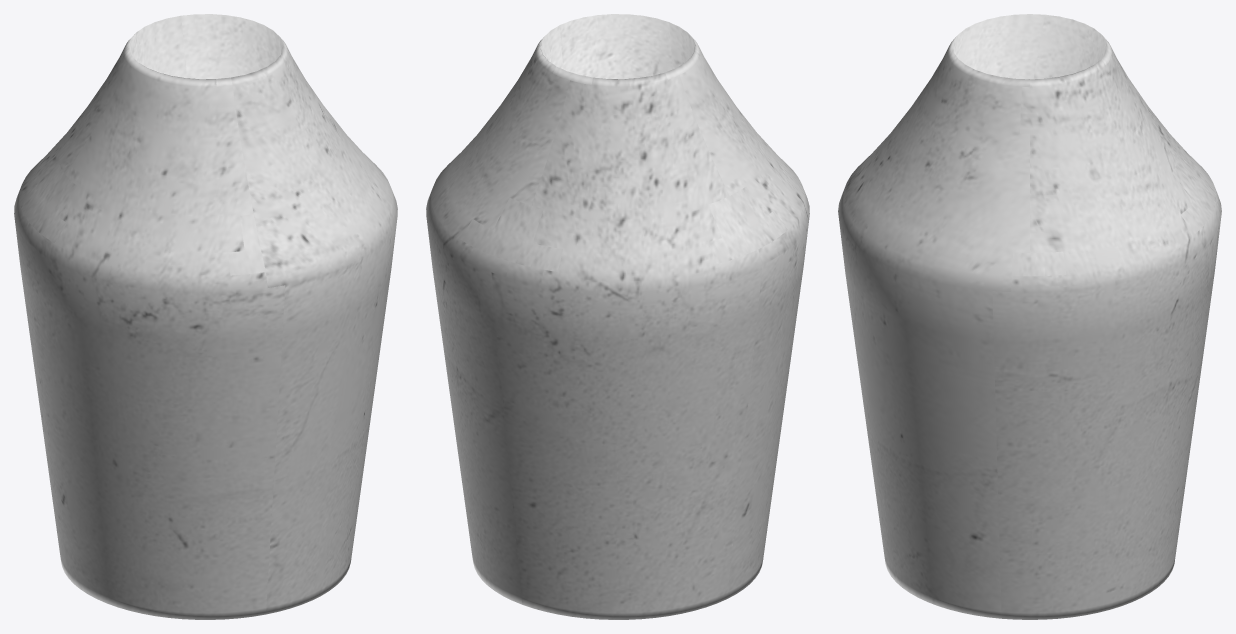
Rendered from cement_pot.glb.
The picture shows the model from 3 angles, left to right: view 1: azimuth 30°, elevation 25°; view 2: azimuth 150°, elevation 25°; view 3: azimuth 270°, elevation 25°; orthographic projection.
Visible parts, largest first — view 1: Cylinder; view 2: Cylinder; view 3: Cylinder.
Boxes of the visible parts, x1,y1,x2,y2 form: Cylinder: (14,14,397,619); Cylinder: (426,14,809,619); Cylinder: (838,14,1221,619).
Size of the model in its own units: 1.97 by 2.89 by 1.97.
1 material, 1 textured.
